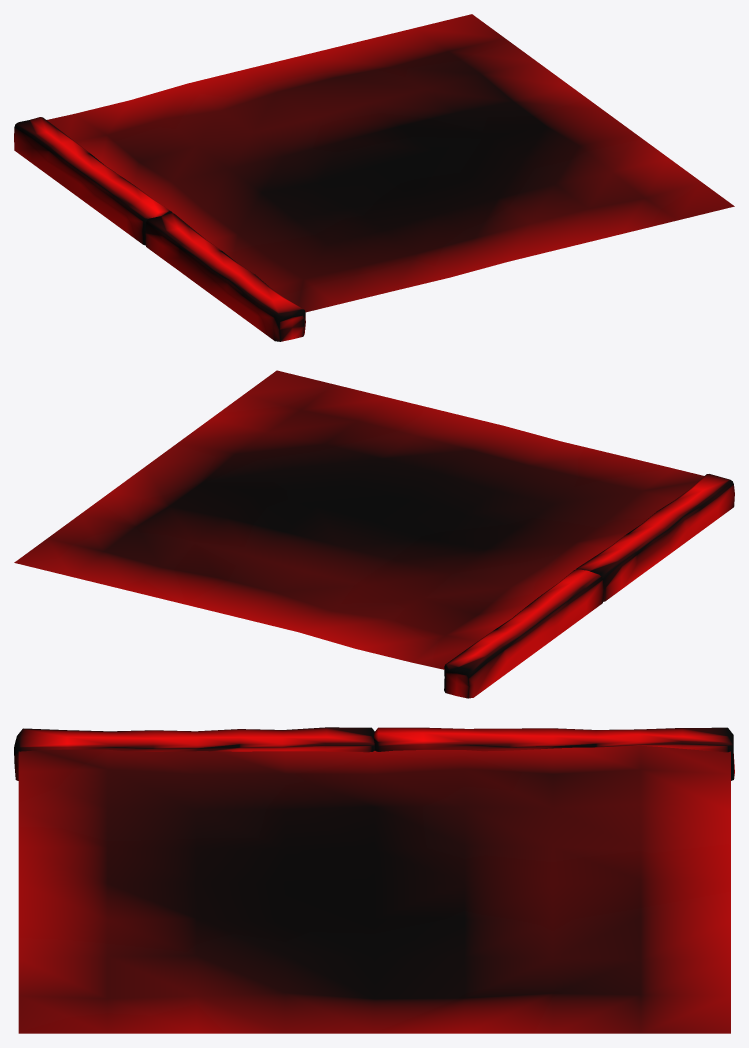
The model's file is alley_walkway_4x4.fbx.
3 renders of one model, top to bottom at view 1: azimuth 30°, elevation 25°; view 2: azimuth 150°, elevation 25°; view 3: azimuth 270°, elevation 25°, orthographic. The views are drawn at different scales.
Visible parts, largest first — view 1: alley_walkway_4x4; view 2: alley_walkway_4x4; view 3: alley_walkway_4x4.
Part boxes in pixels (x1,y1,x2,y2): alley_walkway_4x4: [14, 14, 734, 341]; alley_walkway_4x4: [14, 370, 734, 698]; alley_walkway_4x4: [14, 727, 734, 1033].
Bounding box in the file's own units: 4.04 × 0.2445 × 4.05.
